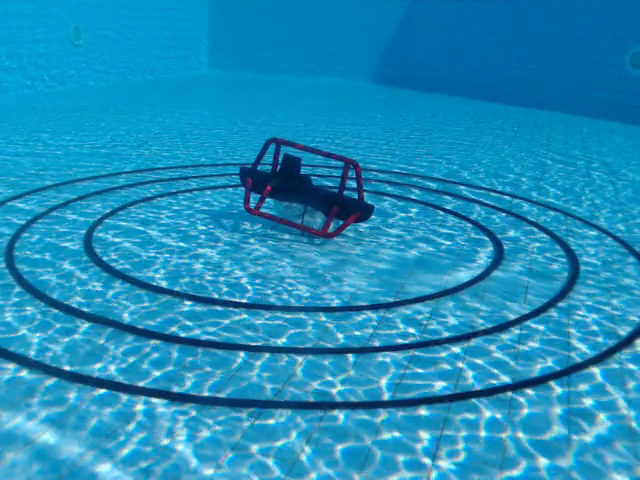submarine: (237, 135, 376, 241)
